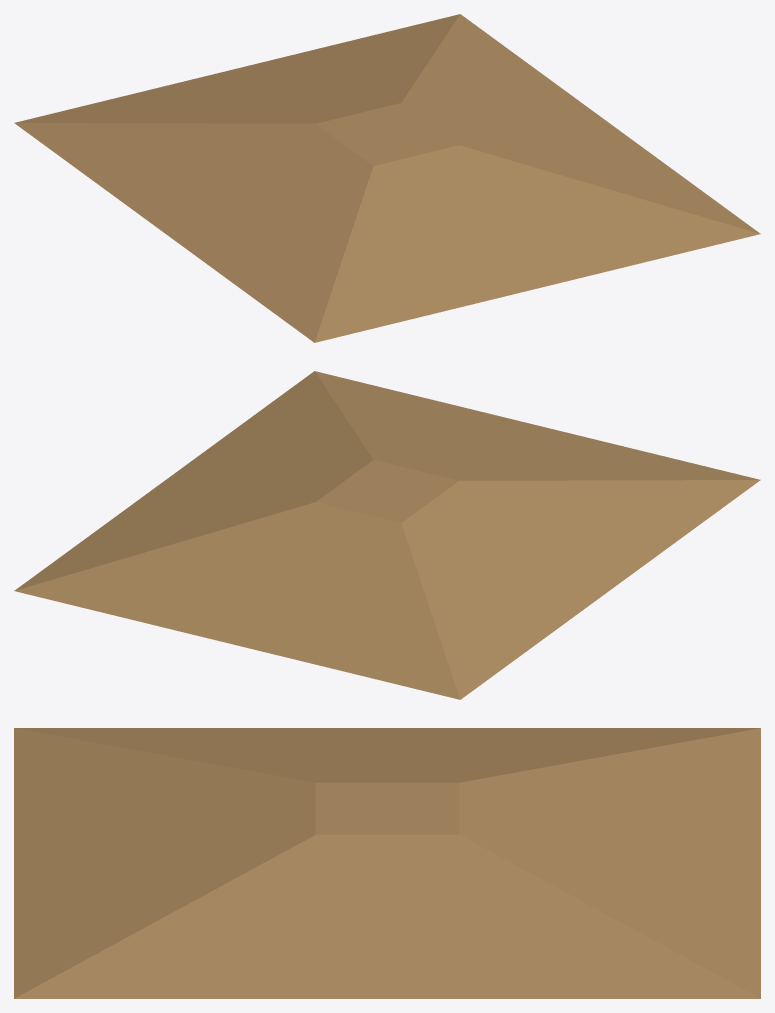
File: Ground.fbx
3 renders of one model, top to bottom at view 1: azimuth 30°, elevation 25°; view 2: azimuth 150°, elevation 25°; view 3: azimuth 270°, elevation 25°, orthographic. The views are drawn at different scales.
Visible parts, largest first — view 1: Ground; view 2: Ground; view 3: Ground.
Part boxes in pixels (bbox=[...]): Ground: bbox=[14, 14, 760, 342]; Ground: bbox=[14, 371, 760, 699]; Ground: bbox=[14, 728, 760, 998].
Bounding box in the file's own units: 5896 × 556 × 6876.
